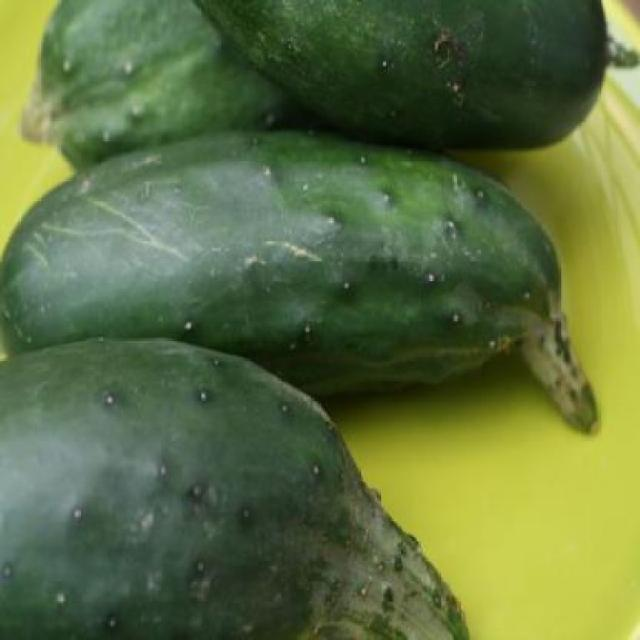Cucumber: (0, 129, 558, 398), (0, 336, 462, 638), (193, 0, 615, 144), (20, 0, 332, 169)
